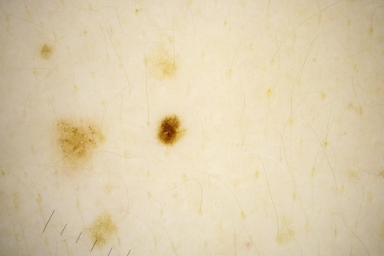nevus: (55, 121, 105, 164), (158, 116, 177, 143)
